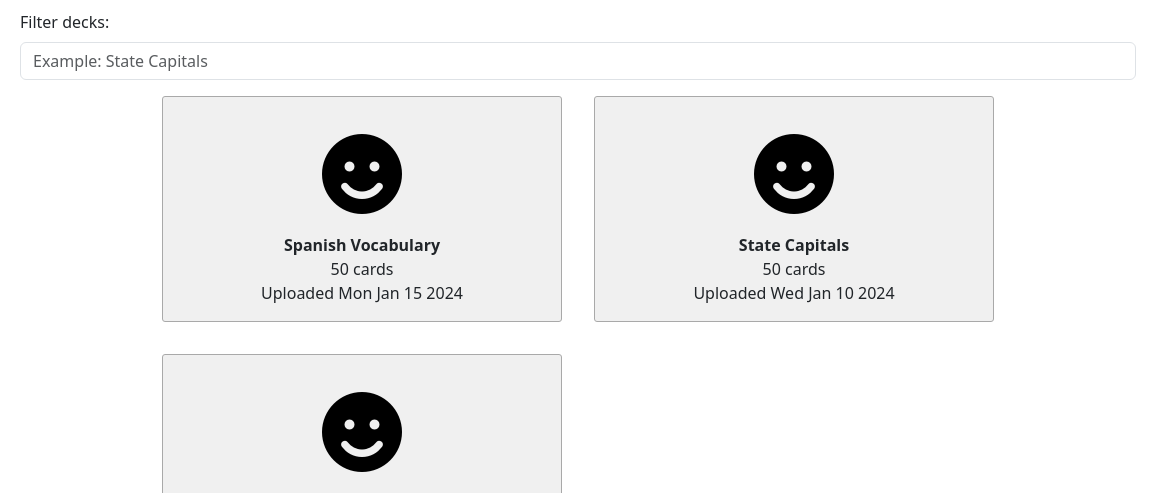
Scenario: DeckList › filtering › filters decks by name
This screenshot has width=1157, height=493.
(page scrolled)
Type "Spanish" into the field with placeholder "Example: State Capitals" at (578, 61), box [20, 42, 1136, 80]
(page scrolled)
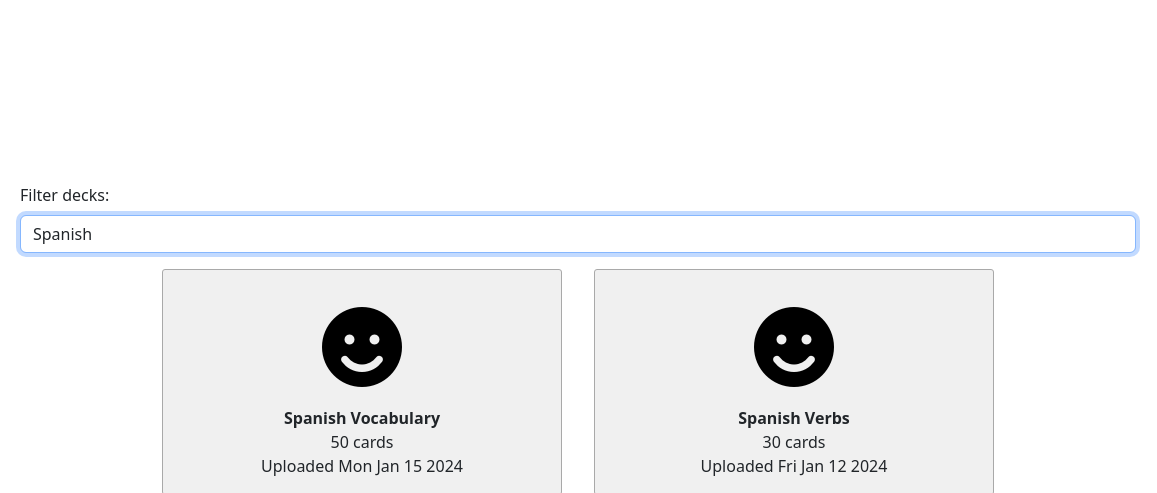
Expected: the text "Spanish Vocabulary" is shown, [284, 407, 440, 429]
Now the text "State Capitals" is gone
